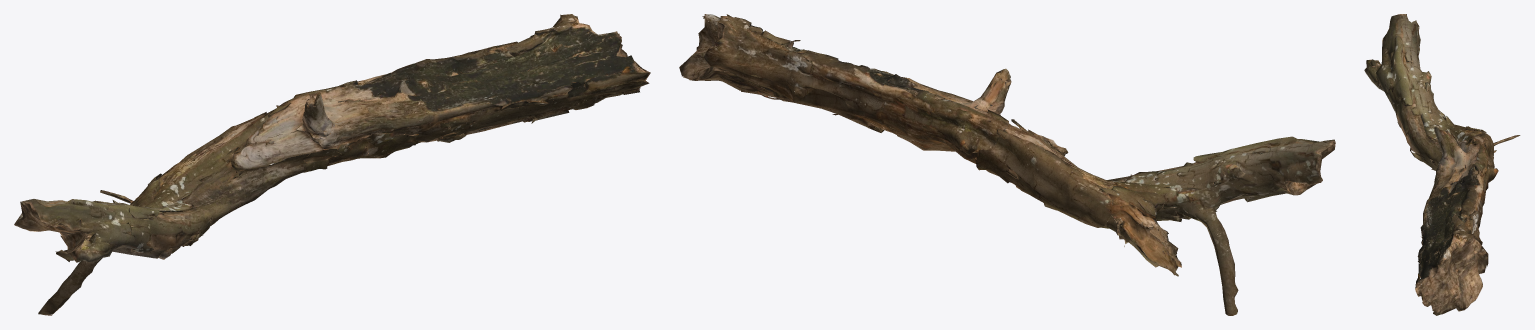
Rendered from dead_tree_trunk_02.glb.
3 views of the same model, side by side, from view 1: azimuth 30°, elevation 25°; view 2: azimuth 150°, elevation 25°; view 3: azimuth 270°, elevation 25° (orthographic). The views are drawn at different scales.
Parts seen in each view (by area): view 1: dead_tree_trunk_02; view 2: dead_tree_trunk_02; view 3: dead_tree_trunk_02.
Boxes of the visible parts, box(x1,y1,x2,y2) form: dead_tree_trunk_02: box(14, 14, 650, 315); dead_tree_trunk_02: box(679, 14, 1335, 315); dead_tree_trunk_02: box(1364, 14, 1520, 315).
Bounding box in the file's own units: 4.05 × 1.06 × 1.05.
Materials: 1 (1 with a texture image).
